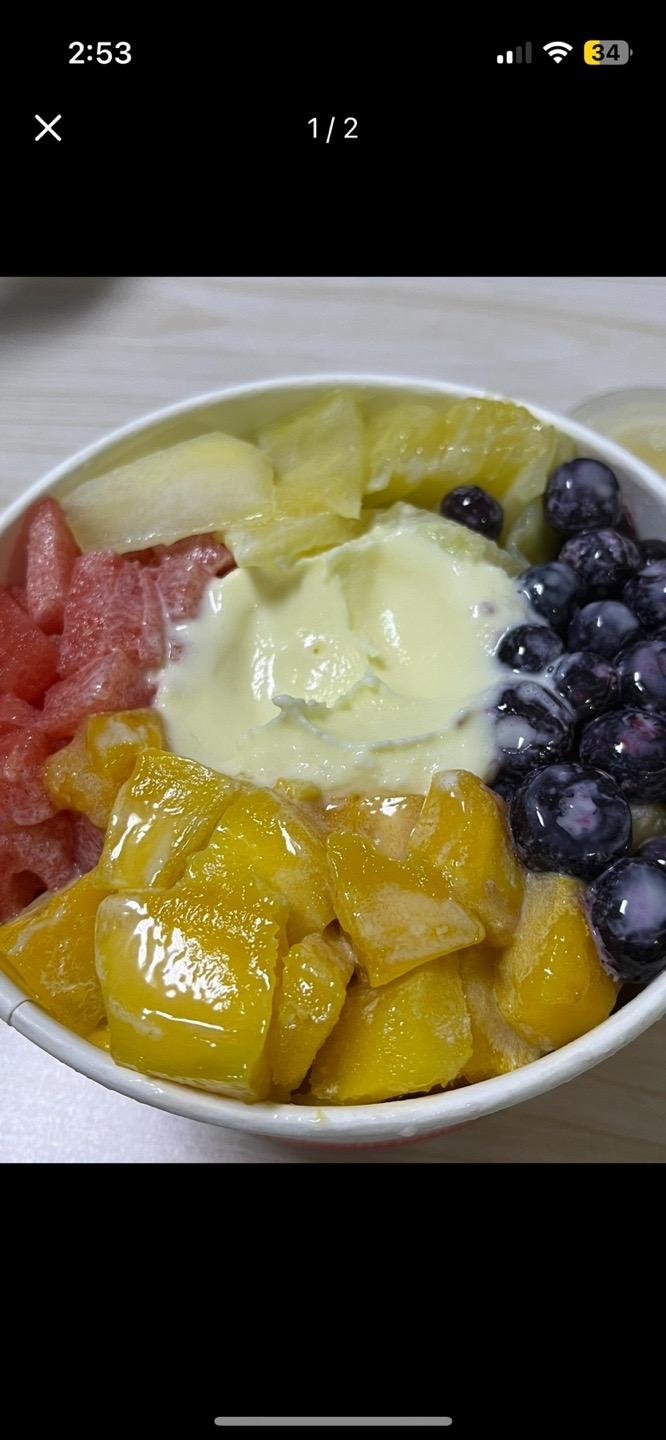Lunch Box: (0, 376, 665, 1145)
